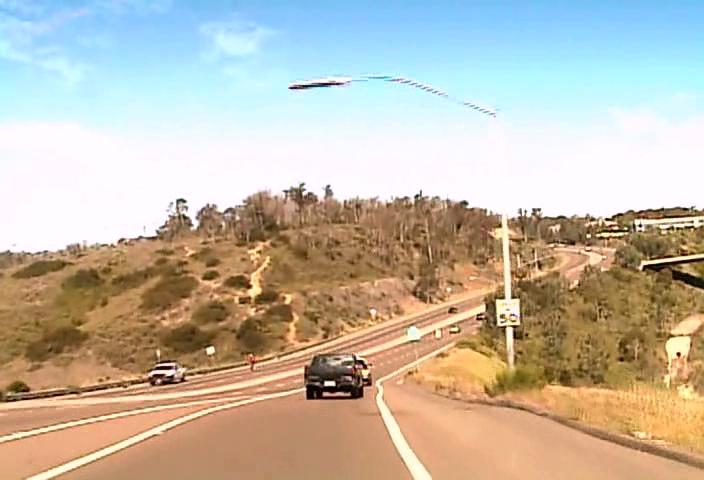speedLimit50: (495, 298, 521, 326)
